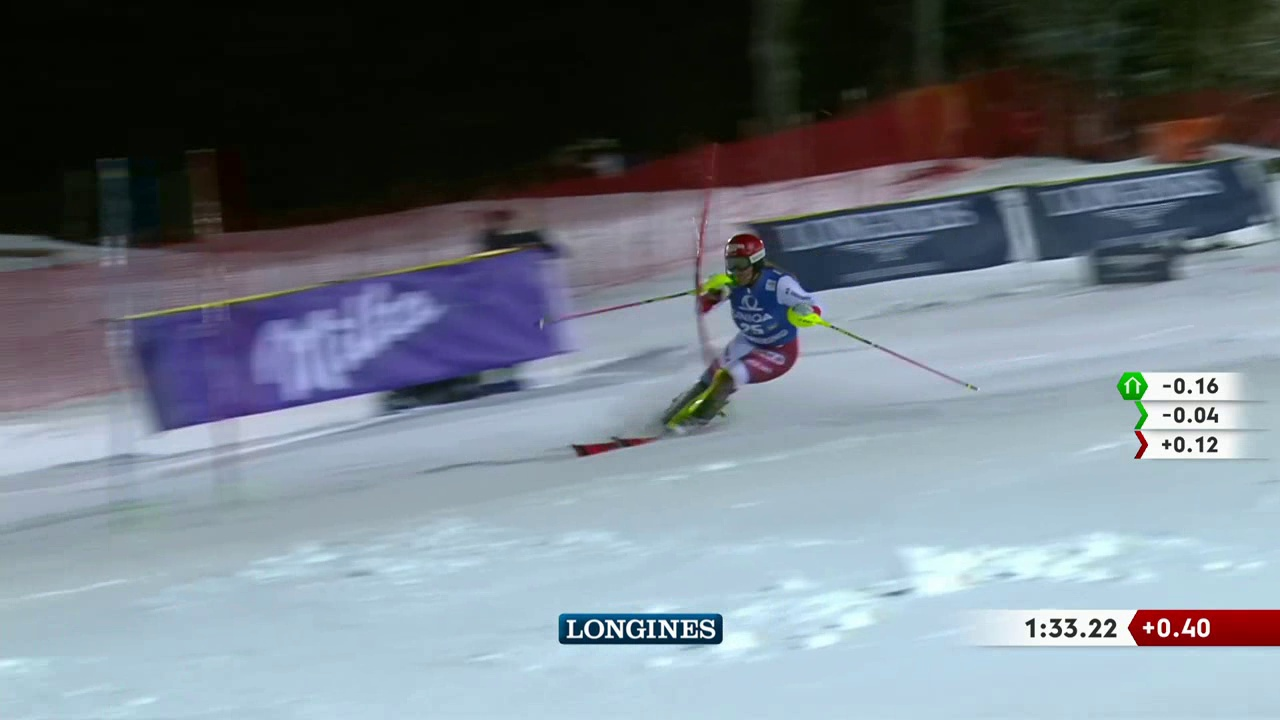longines: (554, 612, 734, 647)
milka: (200, 268, 496, 421)
uniqa: (728, 292, 782, 329)
